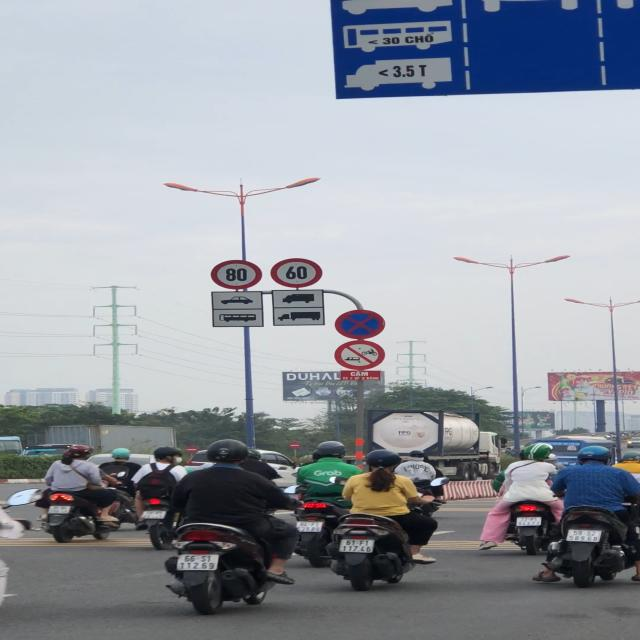Bien bao cam dung xe va do xe: (333, 308, 386, 340)
Bien bao toc do toi da cho phep: (268, 258, 324, 288), (210, 260, 265, 290)
